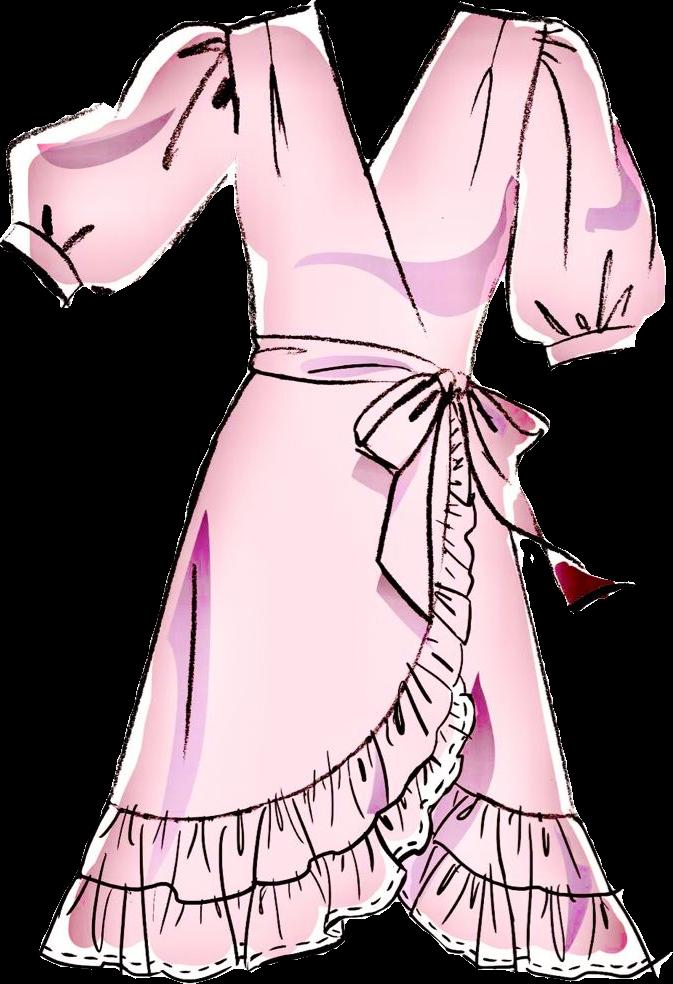Bodice: (226, 0, 552, 384)
Hemline: (38, 416, 479, 982), (390, 893, 663, 983)
Skirt: (41, 370, 659, 982)
Sleeve: (0, 20, 237, 306), (502, 17, 665, 368)
Sleeveline: (503, 17, 556, 204), (10, 214, 88, 293), (539, 312, 645, 350), (219, 23, 241, 201)
Waistline: (102, 378, 471, 820), (250, 329, 469, 385), (244, 365, 471, 387)
